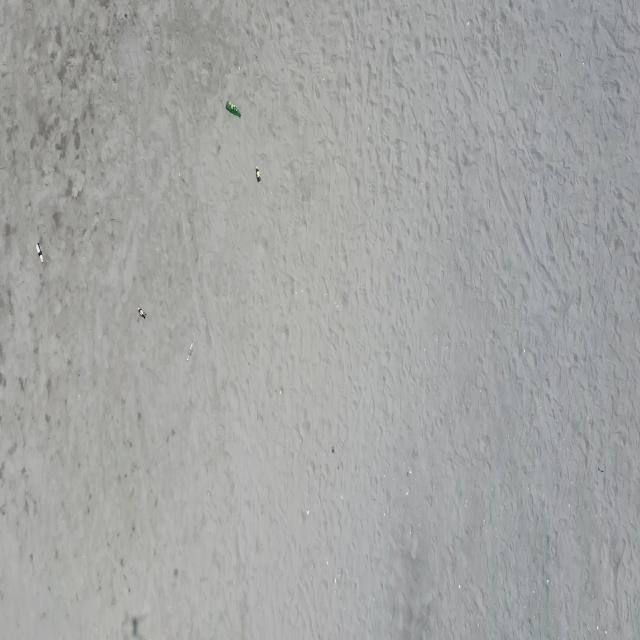glass: (226, 100, 242, 118), (186, 341, 195, 361), (36, 242, 44, 263), (137, 306, 147, 320), (255, 166, 261, 182)
